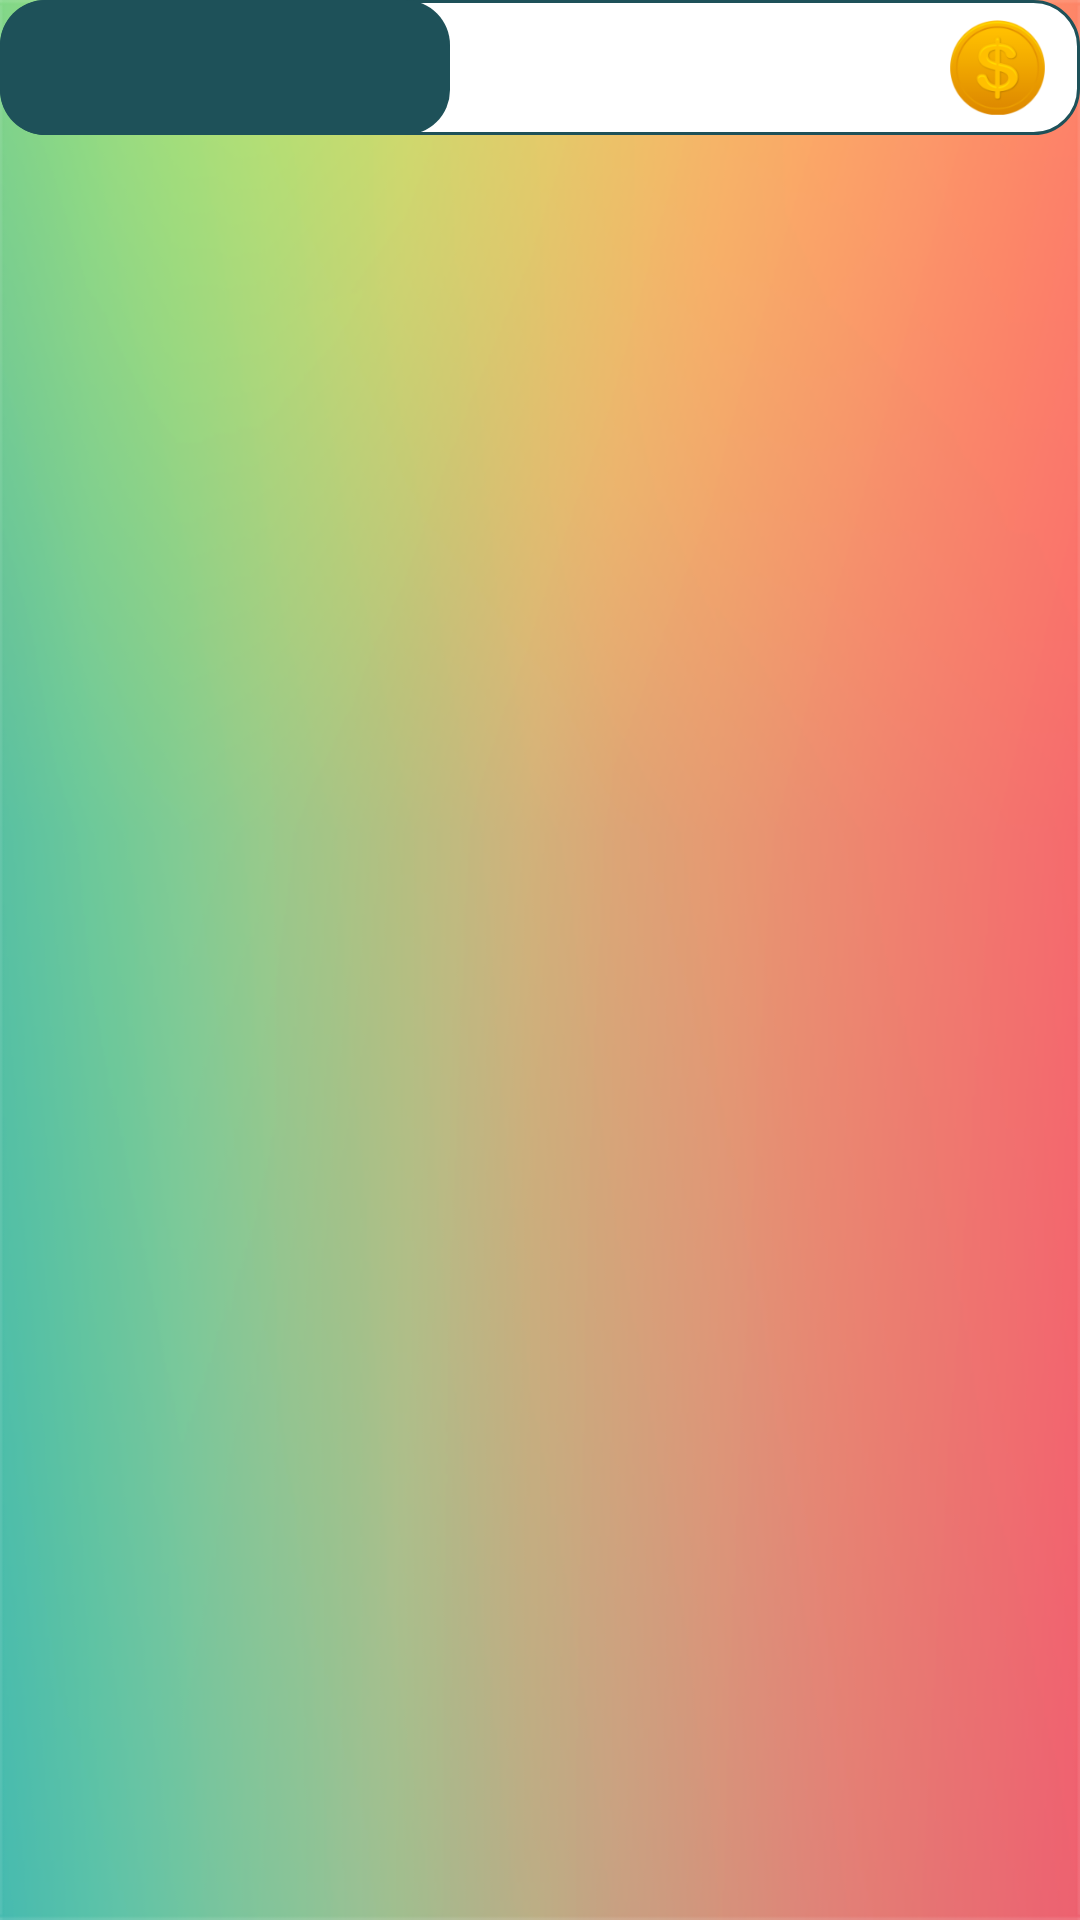

Screen size 1080w x 1920h. Icon name, then its center in pixels as point (x, y):
coin: point (997, 67)
